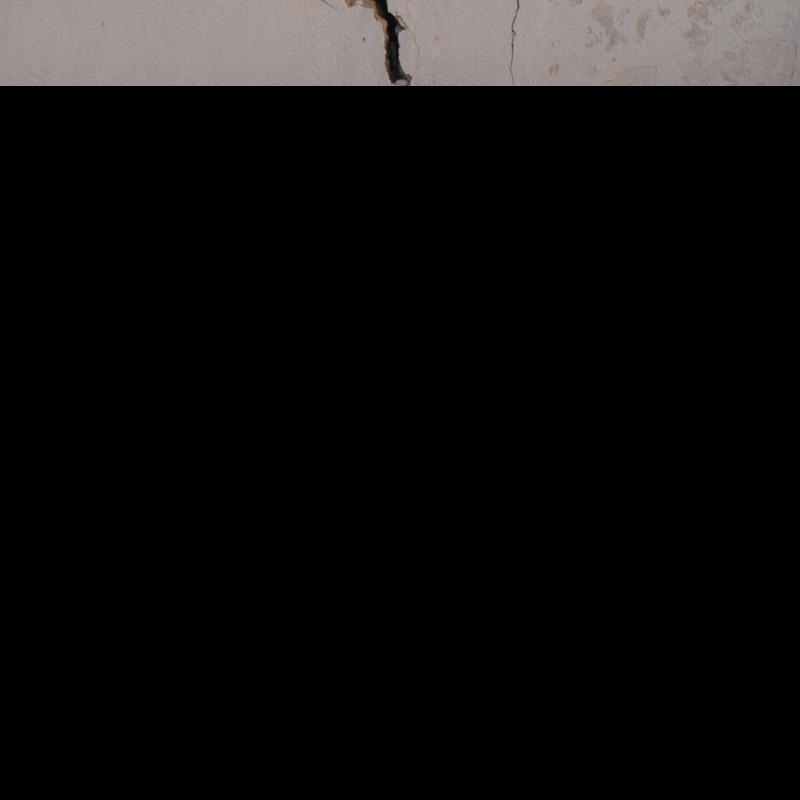pothole: (369, 0, 415, 87), (508, 0, 520, 87)
